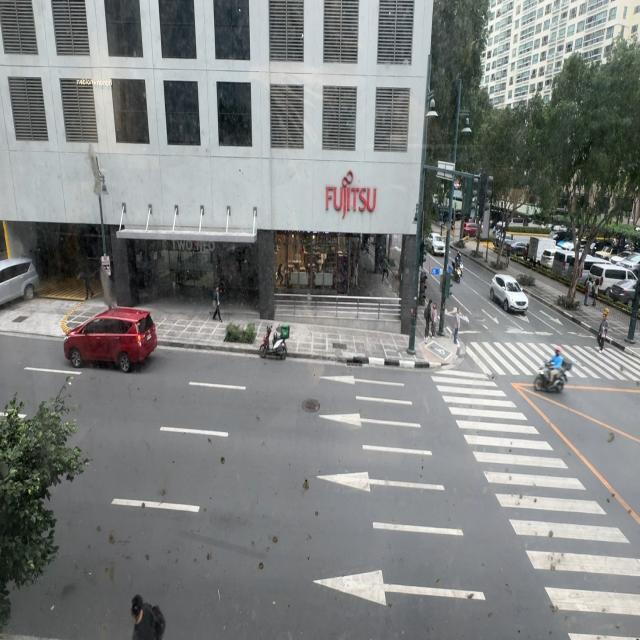crossing: (598, 310, 609, 352)
pedestrain: (594, 278, 600, 304), (505, 244, 511, 267)
waiting: (453, 306, 461, 345), (424, 301, 432, 339), (431, 302, 437, 336)
